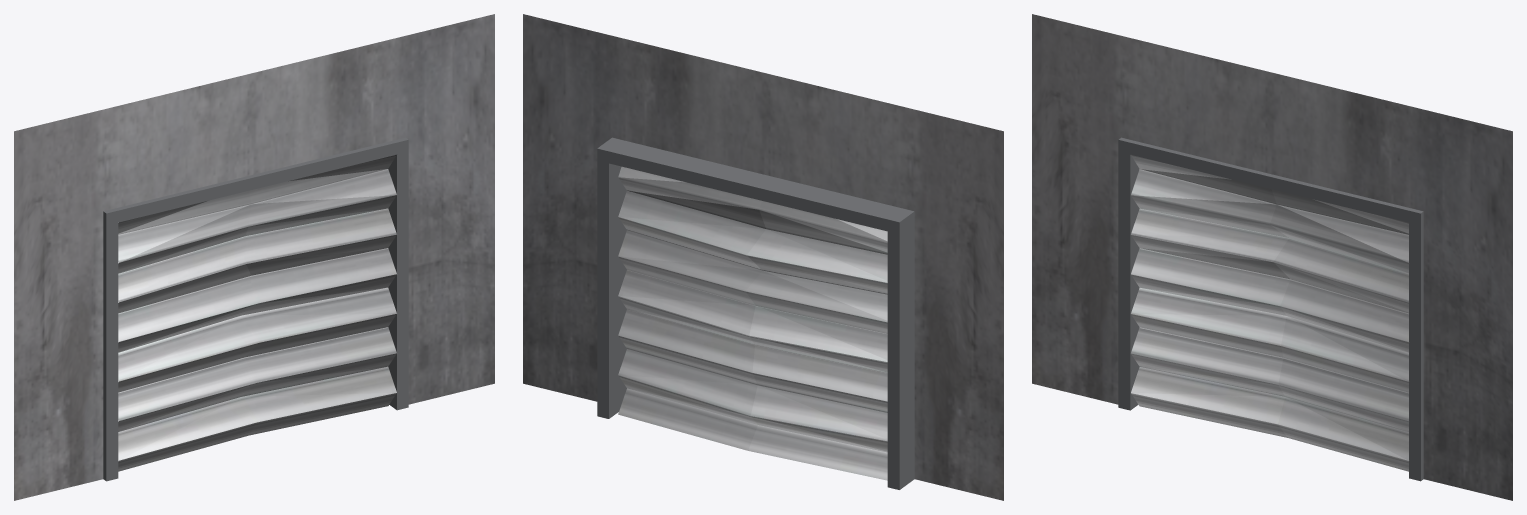
Rendered from obj_wall_s2.fbx.
3 views of the same model, side by side, from view 1: azimuth 30°, elevation 25°; view 2: azimuth 150°, elevation 25°; view 3: azimuth 330°, elevation 25° (orthographic).
Visible parts, largest first — view 1: obj_wall_s2; view 2: obj_wall_s2; view 3: obj_wall_s2.
Boxes of the visible parts, x1,y1,x2,y2 form: obj_wall_s2: [14, 14, 494, 500]; obj_wall_s2: [523, 14, 1003, 500]; obj_wall_s2: [1032, 14, 1512, 500].
Bounding box in the file's own units: 4.71 × 3.48 × 0.3065.
Materials: 1 (1 with a texture image).
